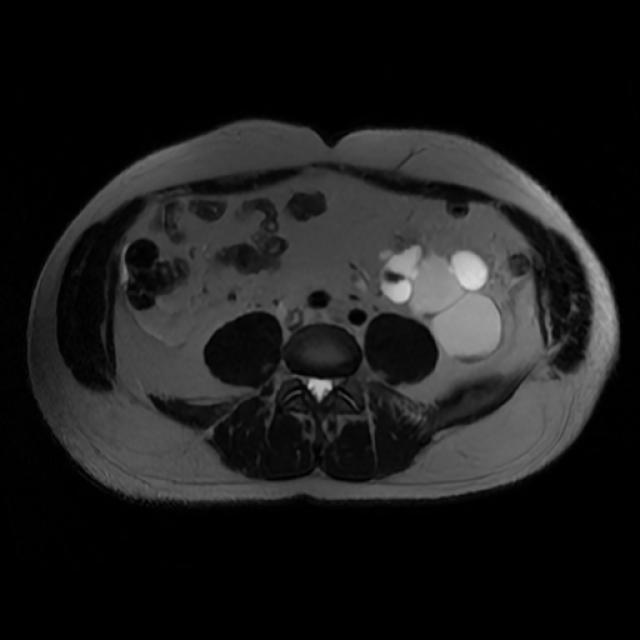sol: (377, 238, 504, 364)
